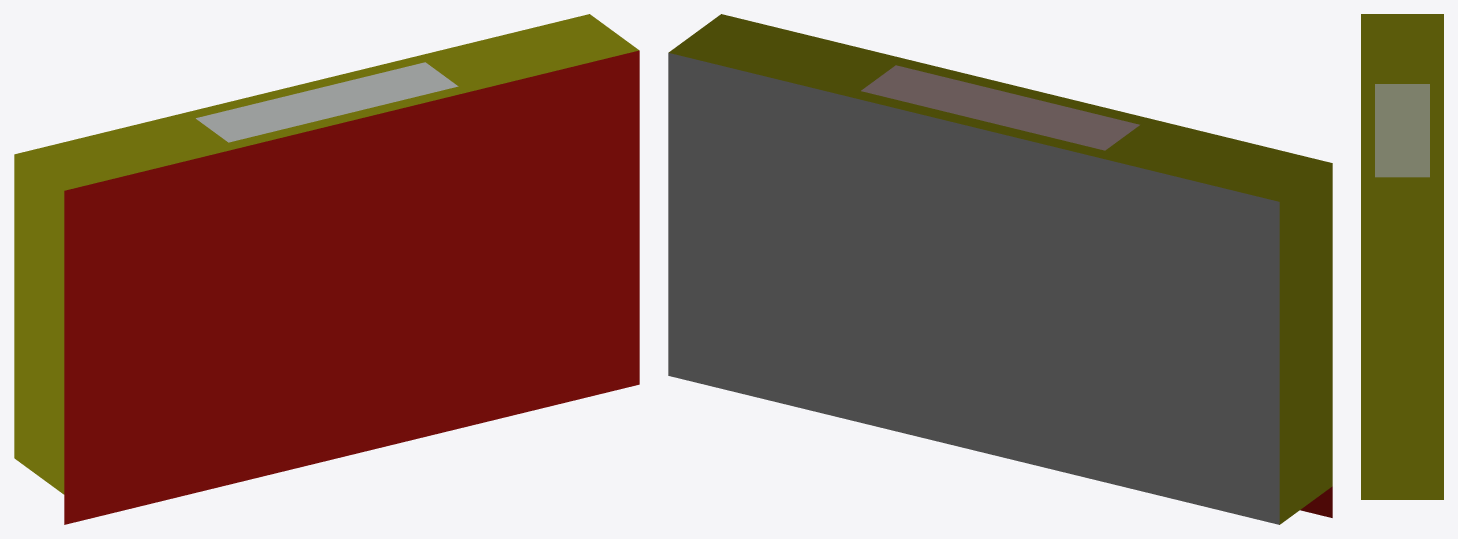
The model's file is idf.obj.
3 views of the same model, side by side, from view 1: azimuth 30°, elevation 25°; view 2: azimuth 150°, elevation 25°; view 3: azimuth 270°, elevation 25° (orthographic). The views are drawn at different scales.
Size of the model in its own units: 20 by 11.1 by 3.
